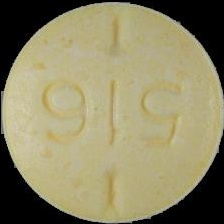58118-1345: (0, 0, 224, 224)
